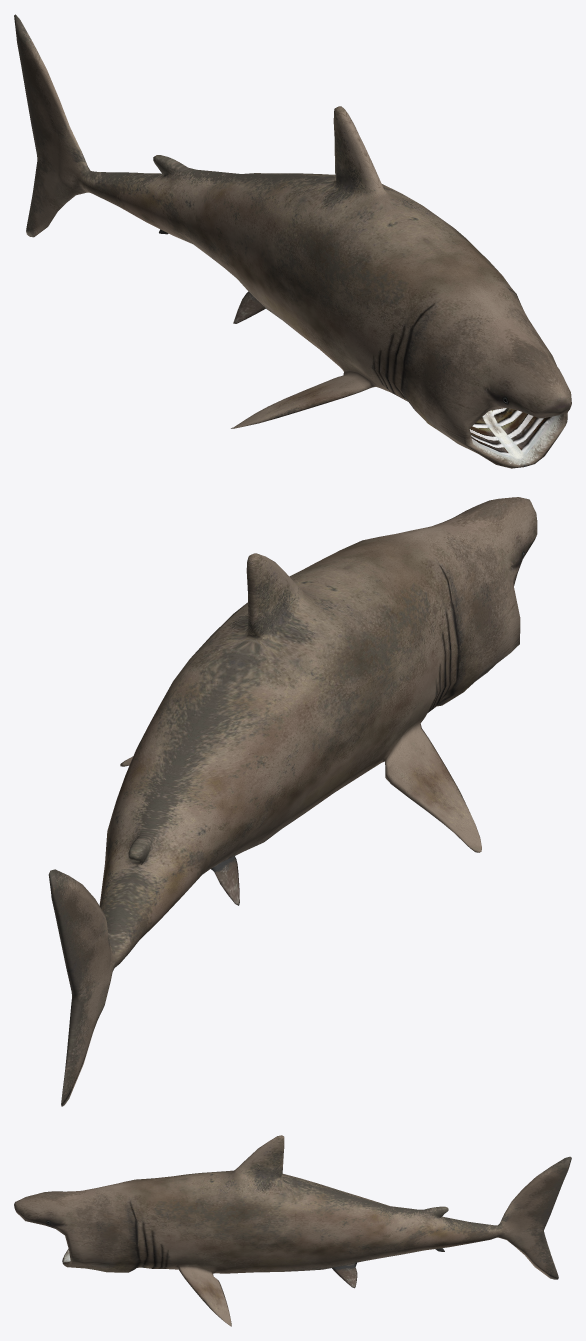
The model's file is Basking_shark.obj.
3 renders of one model, top to bottom at view 1: azimuth 30°, elevation 25°; view 2: azimuth 150°, elevation 25°; view 3: azimuth 270°, elevation 25°, orthographic. The views are drawn at different scales.
Visible parts, largest first — view 1: Basking_Shark2; view 2: Basking_Shark2; view 3: Basking_Shark2.
Boxes of the visible parts, x1,y1,x2,y2 form: Basking_Shark2: [14, 14, 571, 468]; Basking_Shark2: [48, 497, 537, 1106]; Basking_Shark2: [14, 1135, 571, 1326].
Bounding box in the file's own units: 3.29 × 2.87 × 8.81.
1 material, 1 textured.
